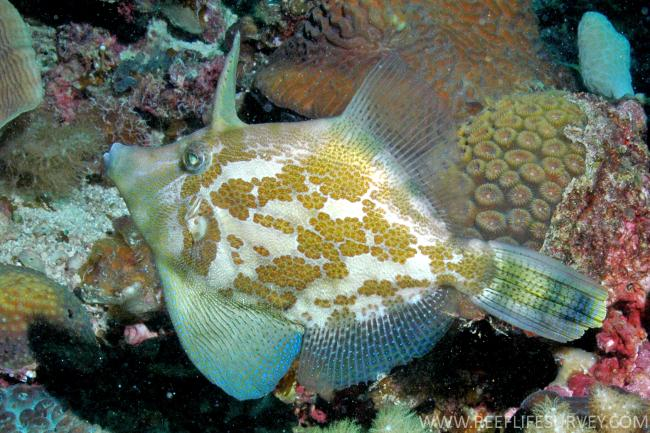fish: (105, 31, 609, 401)
